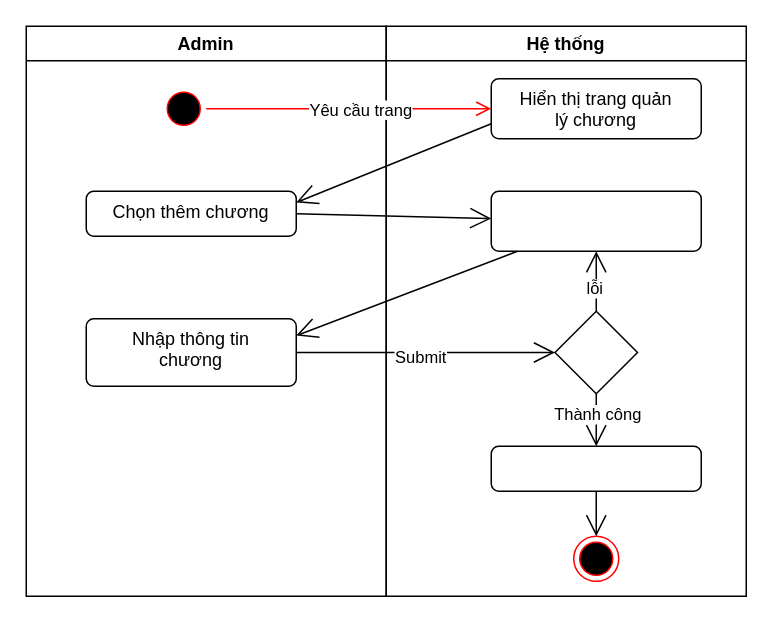
The diagram is 773 pixels wide and 623 high, and some of its shapes have lost their labels. Each missing label, with the centre of its shape:
Cập nhật cơ sở dữ liệu: the point at 595,468
Hiển thị form theo yêu cầu: the point at 595,220
kiểm tra: the point at 596,352
